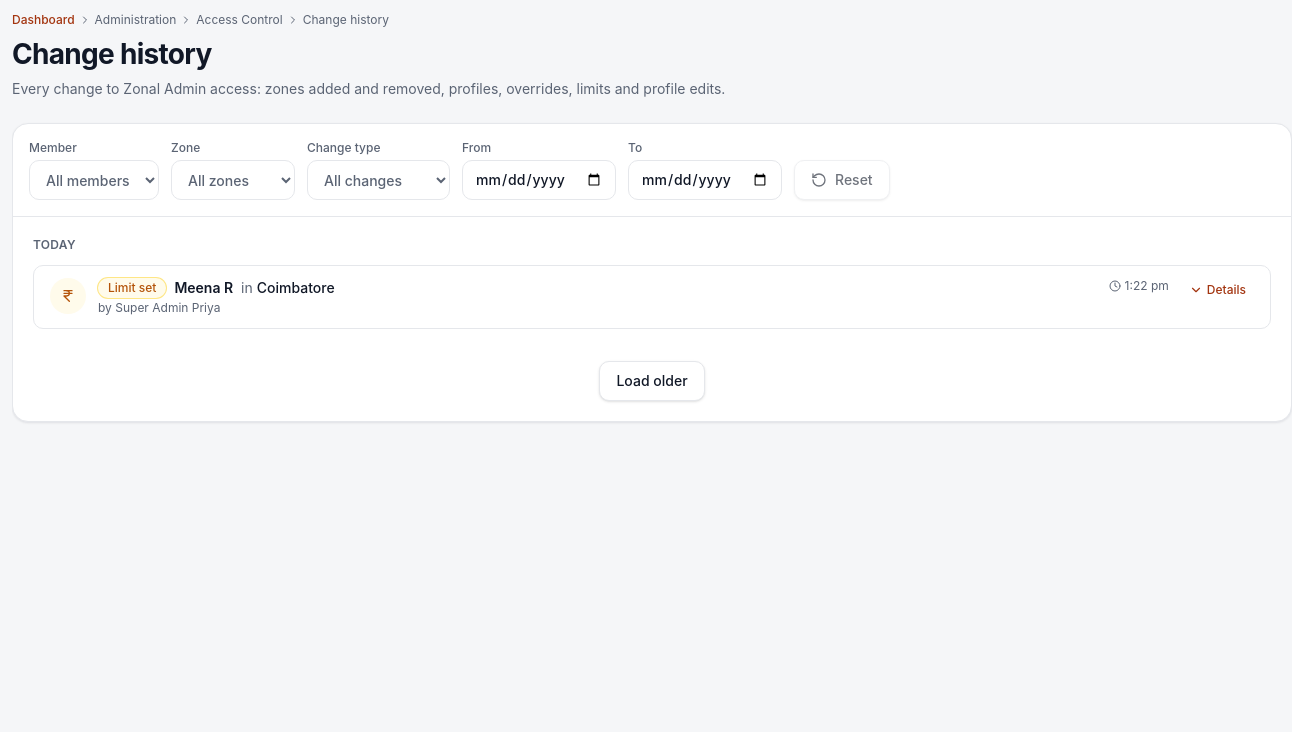
it: access change history page › "Load older" follows the cursor
Click the button "Load older" at (652, 381), box top-left (599, 361), bottom-right (704, 401)
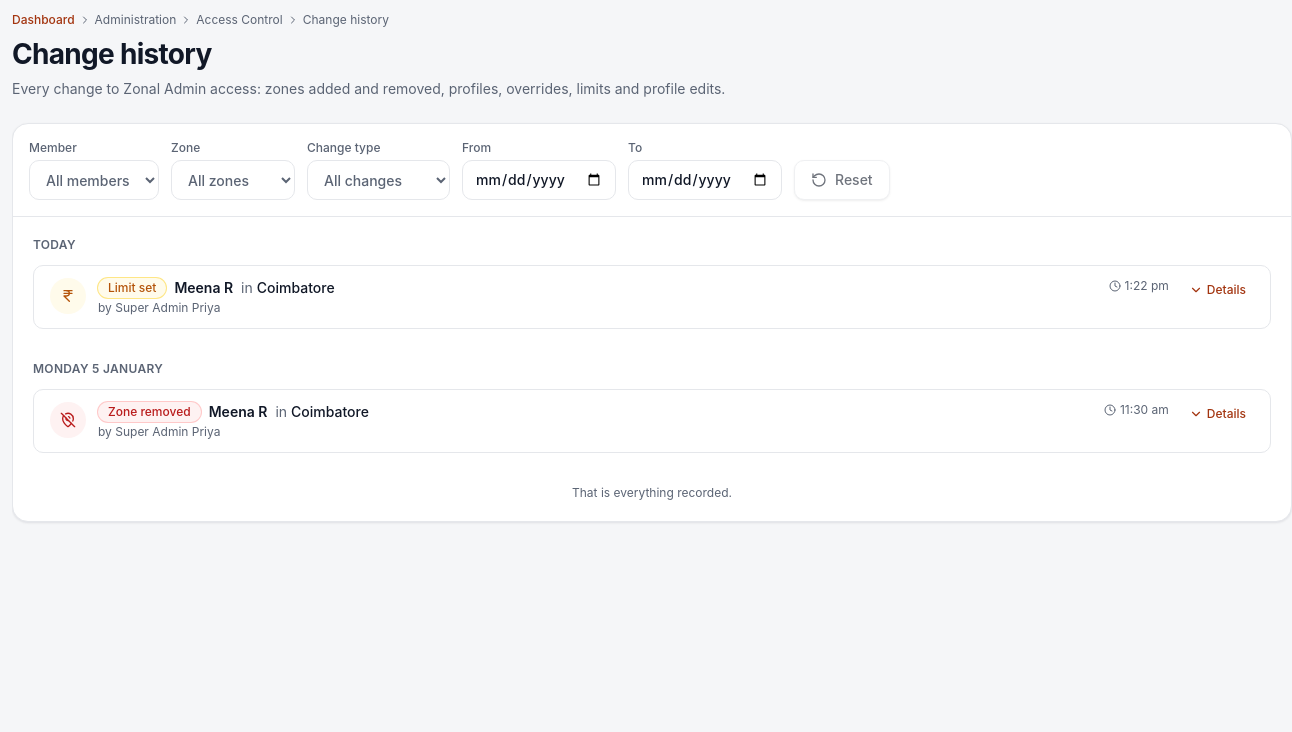
expect the text "Zone removed" is shown: met, box top-left (98, 402), bottom-right (201, 422)
expect the text "That is everything recorded." is shown: met, box top-left (572, 485), bottom-right (732, 500)
